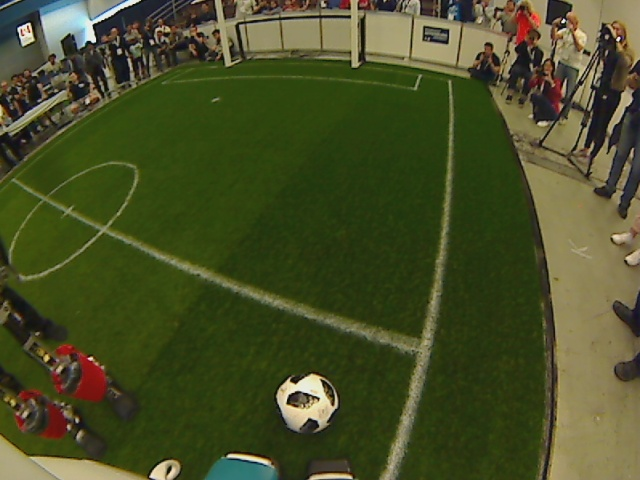ball: (275, 370, 339, 437)
